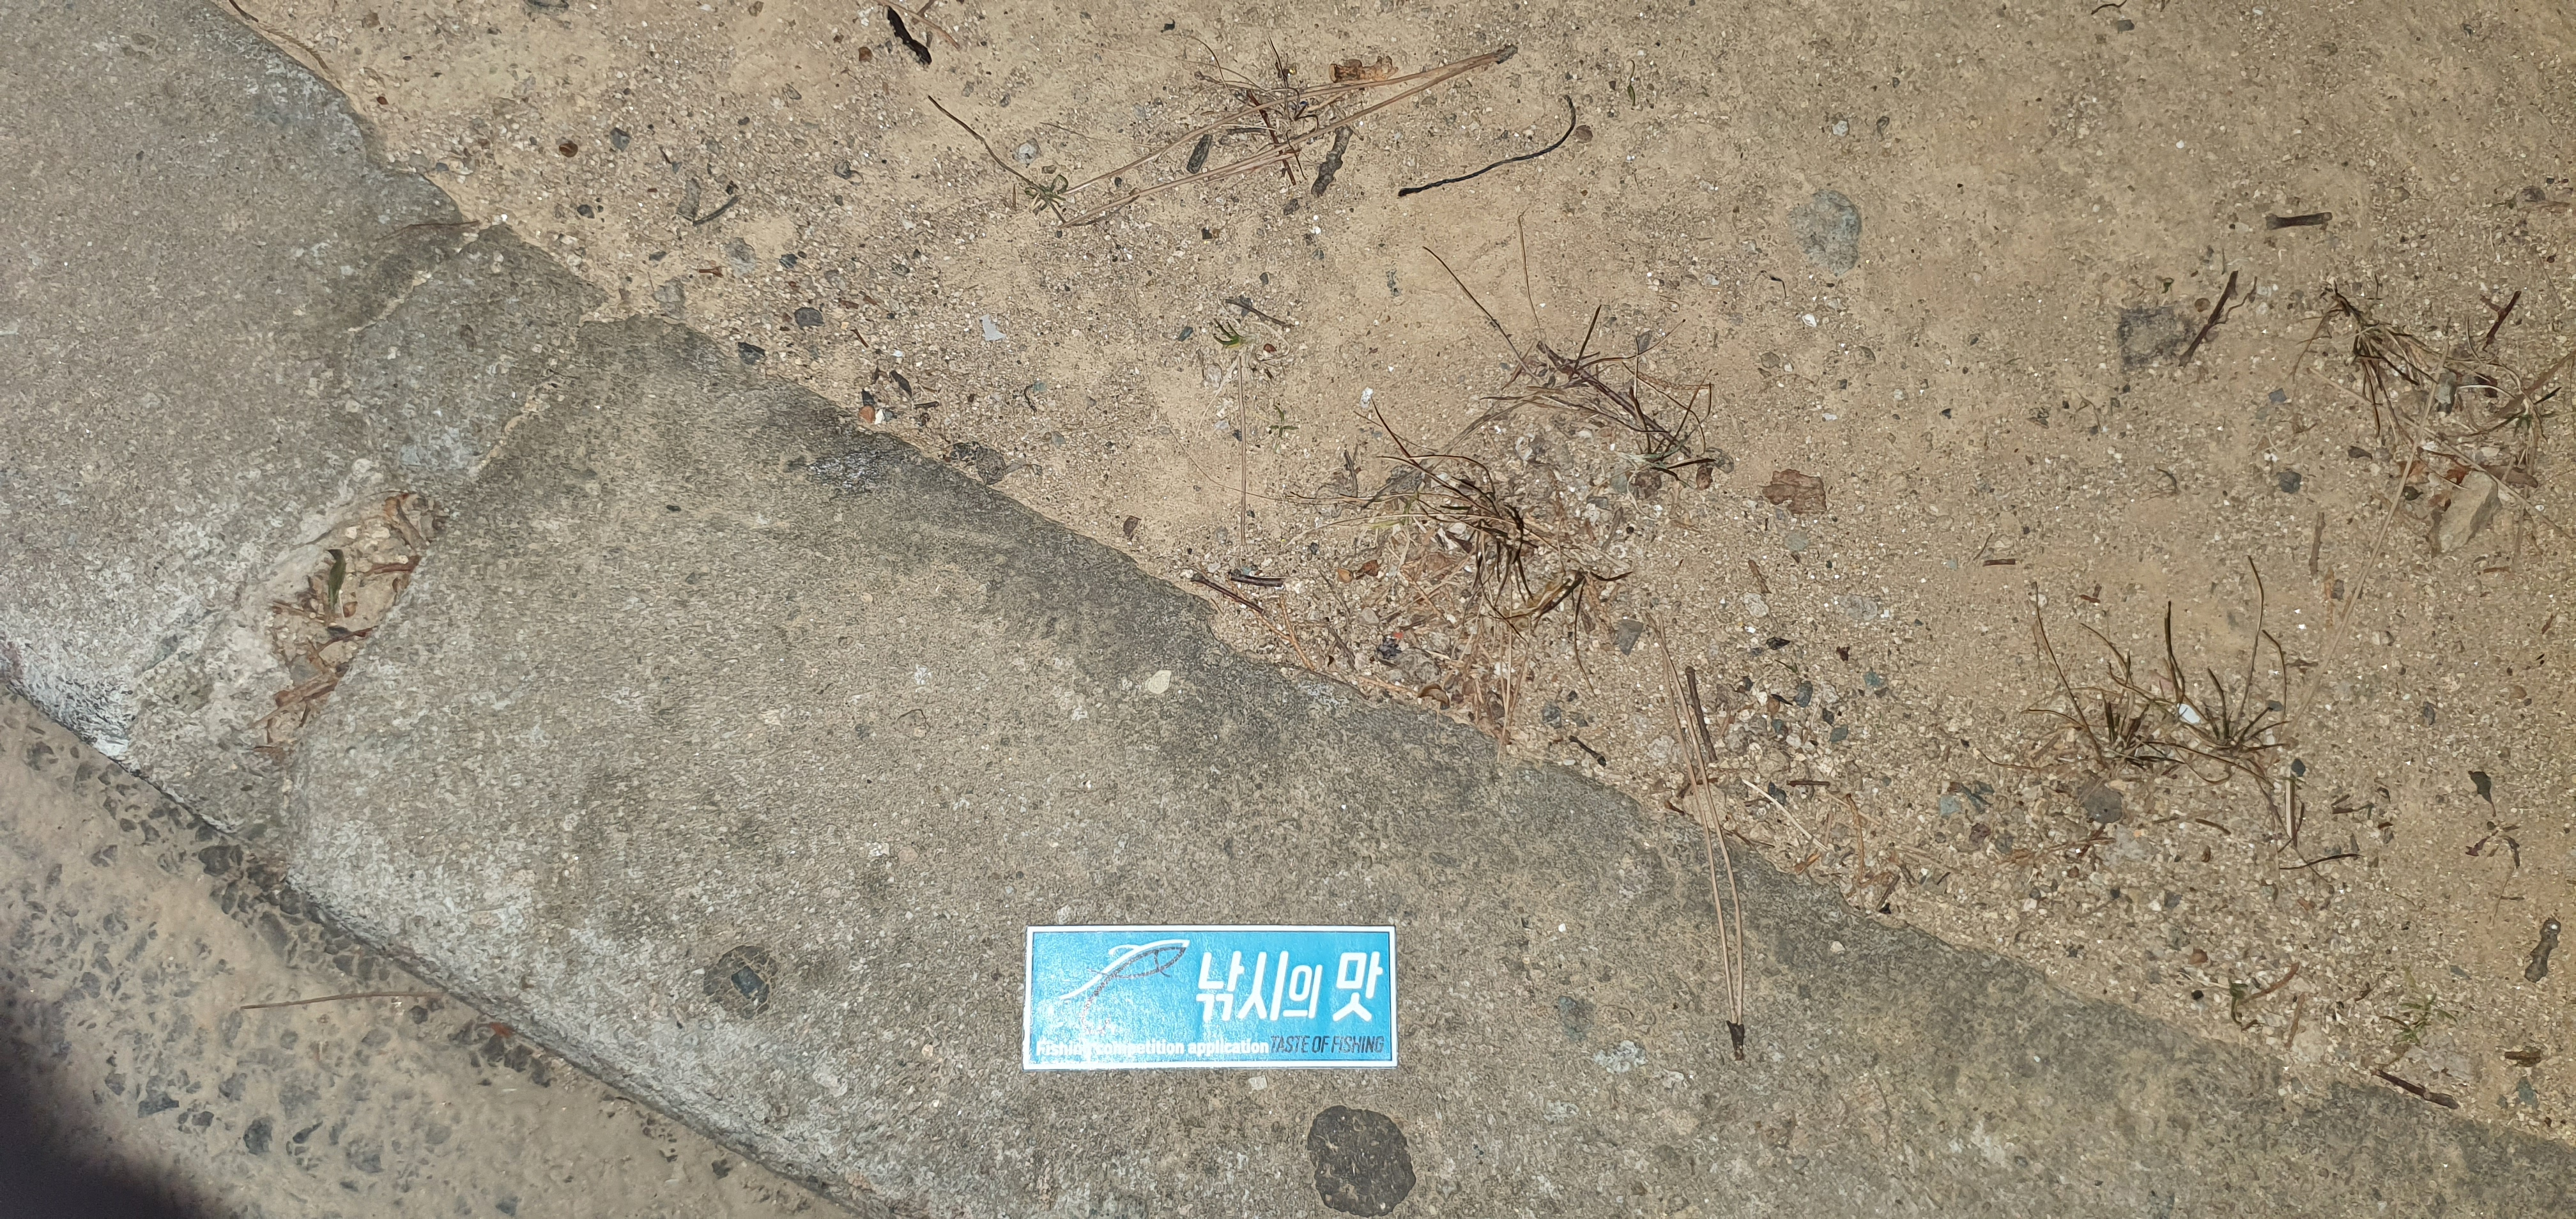tag: (1028, 923, 1395, 1069)
